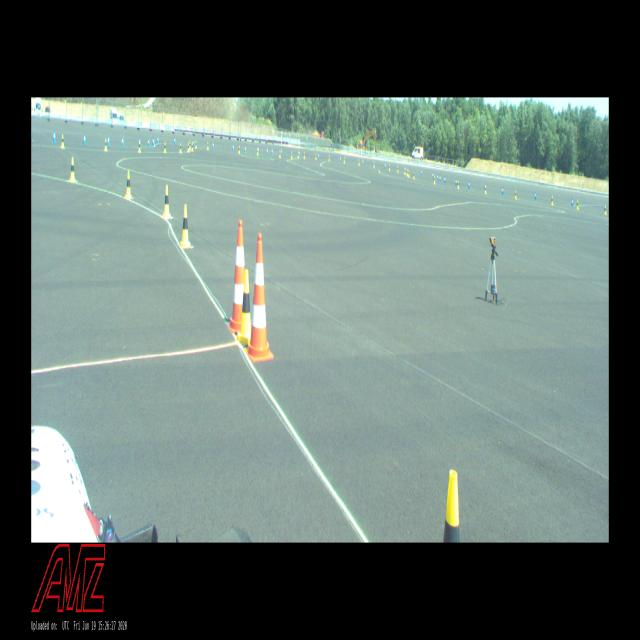blue_cone: (53, 130, 56, 143), (83, 134, 86, 144), (152, 136, 155, 146), (121, 136, 124, 146), (534, 191, 537, 200), (571, 197, 574, 206), (501, 186, 504, 195), (108, 135, 110, 146), (232, 144, 235, 151), (148, 137, 150, 147), (444, 175, 446, 184), (439, 174, 441, 183), (436, 172, 438, 181), (174, 136, 176, 145), (157, 136, 159, 144), (468, 181, 470, 189), (432, 171, 434, 179), (362, 158, 364, 166), (318, 152, 320, 160), (212, 141, 214, 148), (455, 179, 457, 186), (266, 148, 268, 155), (272, 147, 274, 154), (384, 162, 386, 169), (244, 146, 246, 152), (258, 146, 259, 153), (421, 169, 422, 176), (340, 155, 341, 162)
large_orange_cone: (248, 233, 274, 362), (227, 220, 245, 331)
yellow_cone: (443, 470, 460, 543), (237, 270, 251, 345), (180, 204, 192, 248), (163, 185, 171, 218), (124, 169, 132, 199), (70, 156, 76, 182), (60, 134, 64, 148), (104, 138, 108, 151), (138, 140, 141, 153), (604, 204, 607, 215), (551, 195, 554, 206), (514, 189, 517, 199), (484, 184, 487, 194), (576, 200, 579, 209), (179, 144, 182, 152), (189, 139, 191, 150), (206, 142, 209, 149), (388, 164, 391, 171), (164, 142, 166, 152), (408, 168, 410, 178), (187, 143, 189, 152), (413, 171, 415, 180), (457, 180, 459, 189), (238, 146, 240, 154), (290, 151, 292, 159), (195, 140, 197, 148), (358, 158, 360, 166), (279, 150, 281, 158), (434, 176, 436, 184), (328, 154, 330, 162), (191, 143, 193, 151), (256, 147, 258, 155), (396, 165, 398, 172), (373, 161, 375, 168), (343, 156, 345, 163), (315, 153, 317, 160), (297, 152, 299, 158), (407, 167, 408, 176), (304, 152, 305, 158)
